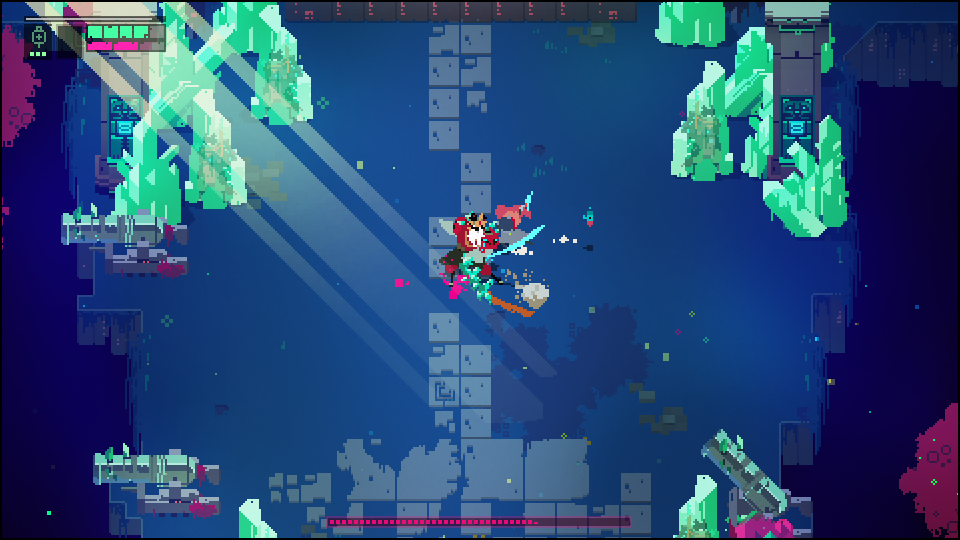hanged_man: (435, 211, 515, 310)
player: (494, 193, 544, 250)
